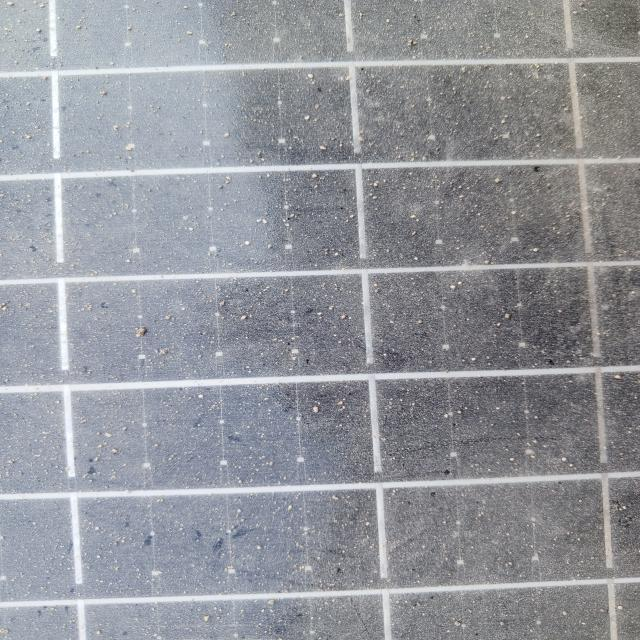Surface Contaminant: (39, 12, 619, 616)
